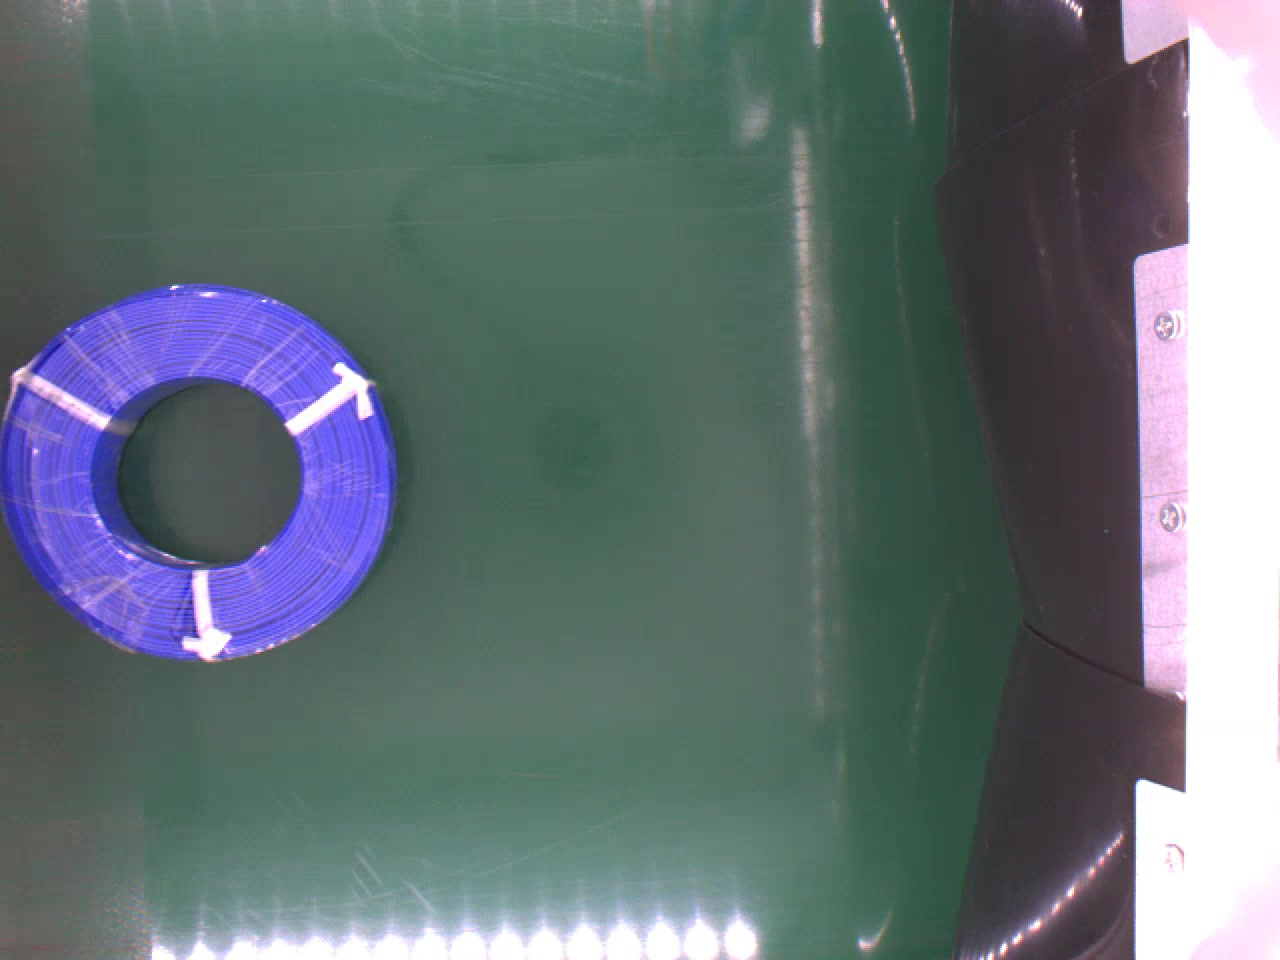blue: (0, 279, 402, 659)
